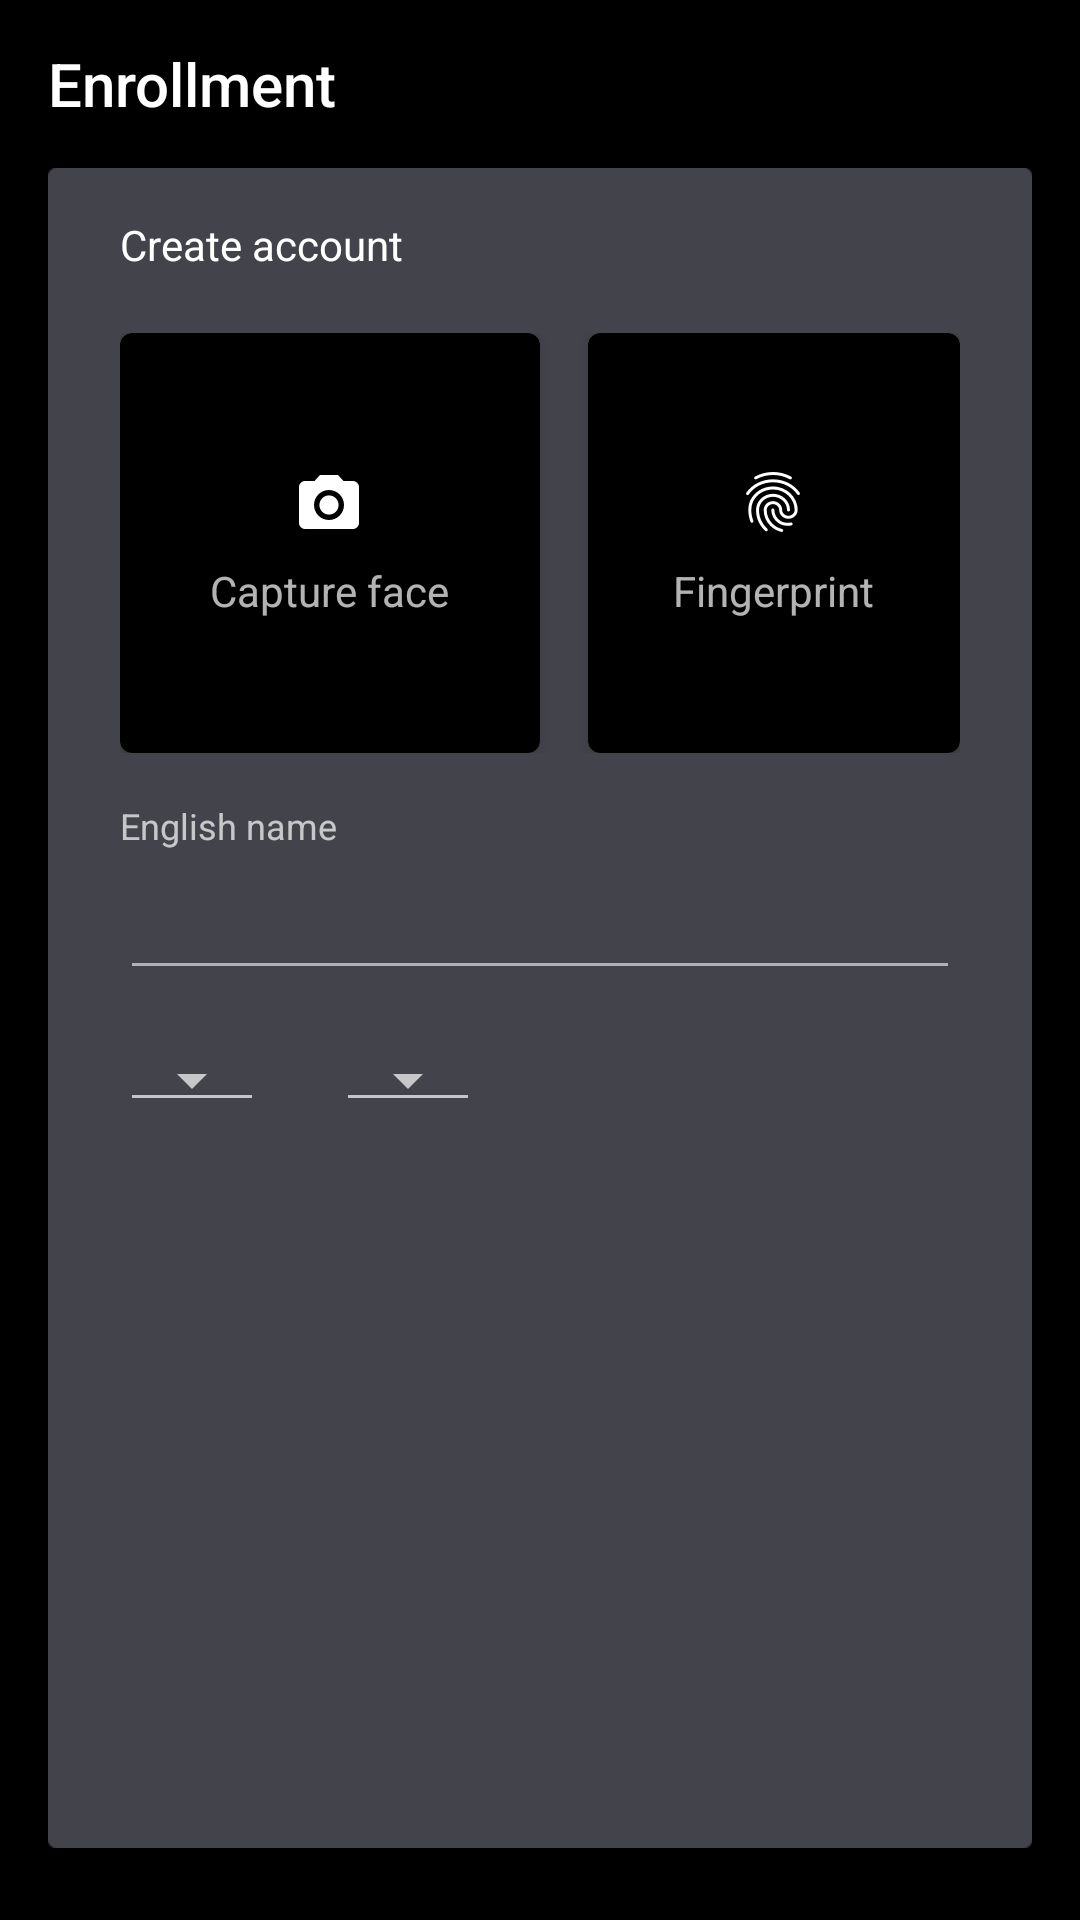

Screen size 1080 × 1920. Icon name, then its center in pixels as (x,y):
camera: (329,502)
